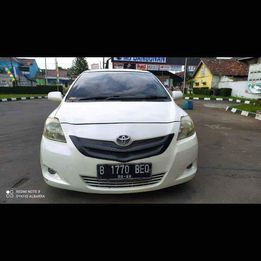plate: (94, 161, 156, 181)
